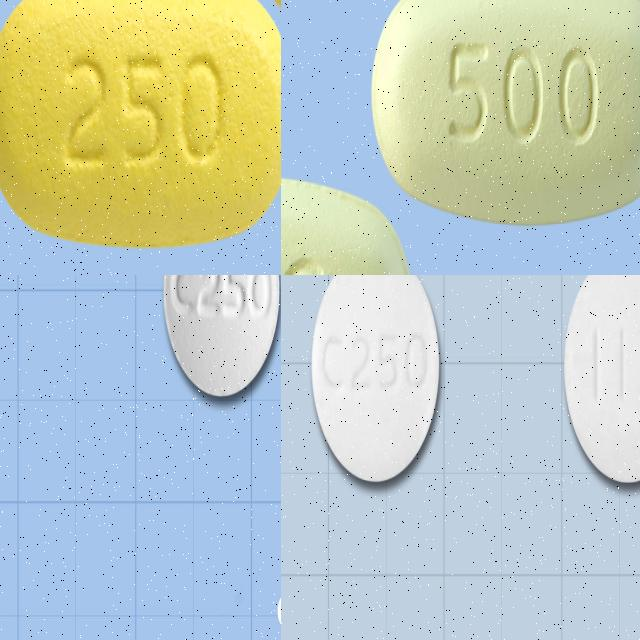Cipaxin: (160, 275, 281, 407)
Ciprofloxacin Hcl Tab- Ilyang: (311, 275, 445, 492), (559, 275, 640, 491)
Clao: (0, 0, 281, 258)
Clavix: (368, 0, 640, 231)
